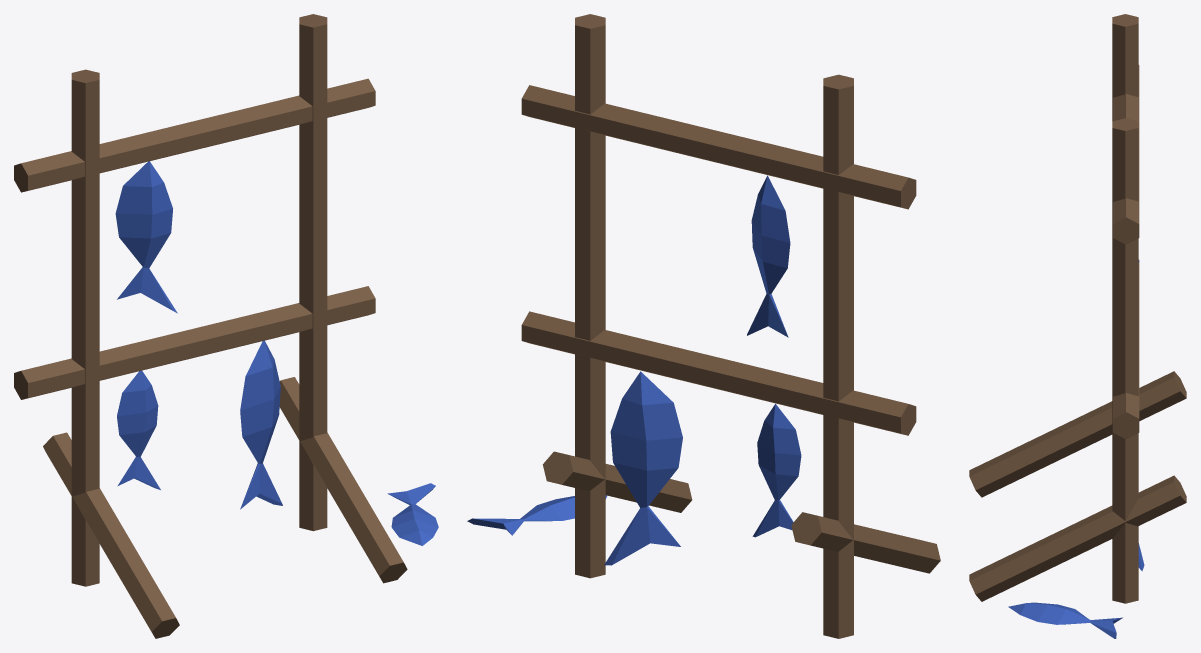
File: sechoir_1.fbx
3 views of the same model, side by side, from view 1: azimuth 30°, elevation 25°; view 2: azimuth 150°, elevation 25°; view 3: azimuth 270°, elevation 25° (orthographic). The views are drawn at different scales.
Parts seen in each view (by area): view 1: pCylinder3, pCylinder2, pCylinder4, pCylinder5, pCylinder7, pCylinder6, poisson1, poisson2, poisson3, poisson29; view 2: pCylinder3, pCylinder2, pCylinder4, pCylinder5, poisson2, pCylinder7, poisson1, poisson3, pCylinder6, poisson29; view 3: pCylinder3, pCylinder6, pCylinder7, pCylinder2, pCylinder4, poisson29, pCylinder5.
Part boxes in pixels (box(x1,y1,x2,y2)): pCylinder3: box(299, 14, 327, 531); pCylinder2: box(71, 69, 99, 586); pCylinder4: box(14, 78, 375, 192); pCylinder5: box(14, 286, 375, 399); pCylinder7: box(43, 432, 179, 638); pCylinder6: box(279, 377, 407, 583); poisson1: box(115, 161, 177, 313); poisson2: box(240, 340, 282, 509); poisson3: box(117, 370, 160, 489); poisson29: box(387, 483, 438, 545); pCylinder3: box(575, 14, 605, 578); pCylinder2: box(823, 74, 853, 638); pCylinder4: box(521, 85, 916, 209); pCylinder5: box(521, 311, 916, 435); poisson2: box(604, 371, 682, 565); pCylinder7: box(791, 512, 940, 573); poisson1: box(747, 175, 790, 337); poisson3: box(752, 404, 801, 537); pCylinder6: box(542, 451, 692, 512); poisson29: box(467, 495, 607, 535); pCylinder3: box(1112, 118, 1138, 603); pCylinder6: box(969, 475, 1186, 601); pCylinder7: box(969, 371, 1186, 497); pCylinder2: box(1112, 14, 1138, 121); pCylinder4: box(1113, 65, 1139, 244); poisson29: box(1008, 602, 1122, 638); pCylinder5: box(1113, 259, 1139, 439).
Bounding box in the file's own units: 1.52 × 1.79 × 0.7433.
